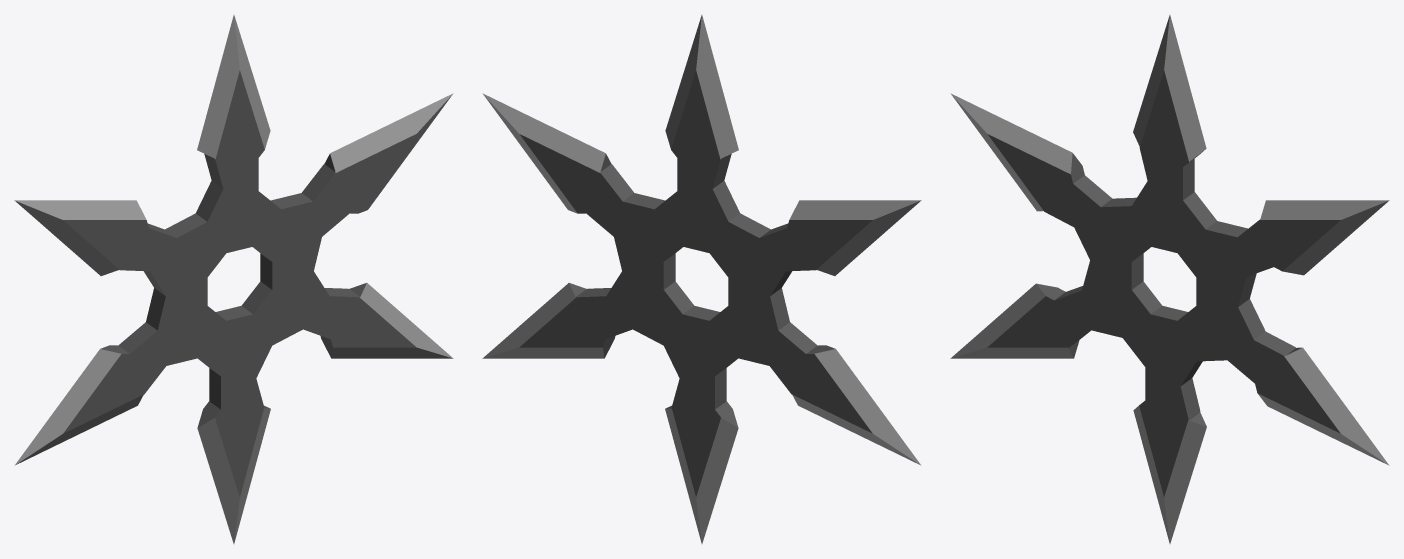
File: Shuriken_01.fbx
3 views of the same model, side by side, from view 1: azimuth 30°, elevation 25°; view 2: azimuth 150°, elevation 25°; view 3: azimuth 330°, elevation 25° (orthographic).
Parts seen in each view (by area): view 1: Shuriken_01; view 2: Shuriken_01; view 3: Shuriken_01.
Boxes of the visible parts, x1,y1,x2,y2 form: Shuriken_01: [14, 15, 453, 543]; Shuriken_01: [482, 15, 921, 543]; Shuriken_01: [950, 15, 1389, 543].
Size of the model in its own units: 11.62 by 13.42 by 0.5387.
